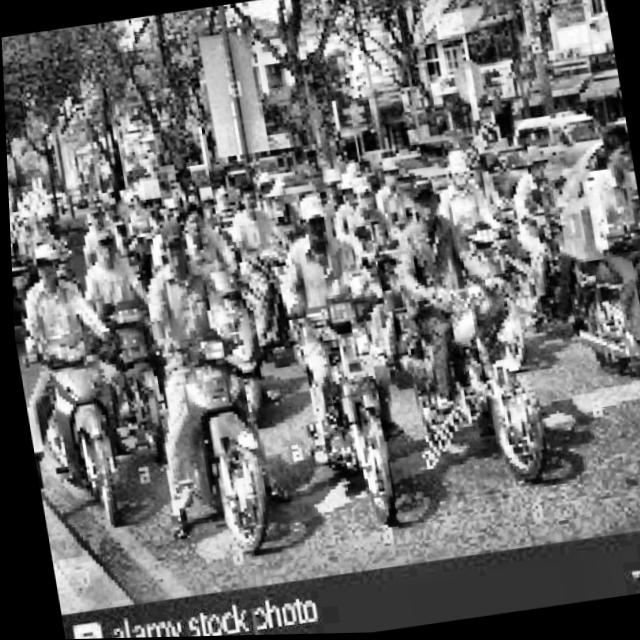motorcycle: (129, 309, 293, 566), (388, 260, 558, 492), (284, 281, 414, 542), (11, 321, 133, 534), (84, 274, 179, 471), (552, 202, 640, 394), (449, 206, 550, 373), (8, 238, 44, 348), (627, 287, 640, 465)
